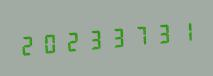one: (171, 14, 192, 48)
seven: (127, 18, 148, 52)
three: (83, 22, 104, 56), (105, 20, 126, 54), (149, 16, 170, 50)
two: (17, 27, 38, 61), (61, 24, 82, 58)
zero: (39, 25, 60, 59)
